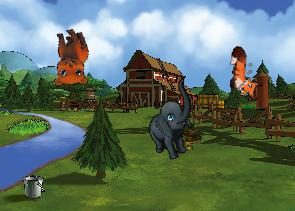bear: (42, 25, 95, 91)
elephant: (133, 78, 213, 165)
fox: (226, 46, 265, 100)
